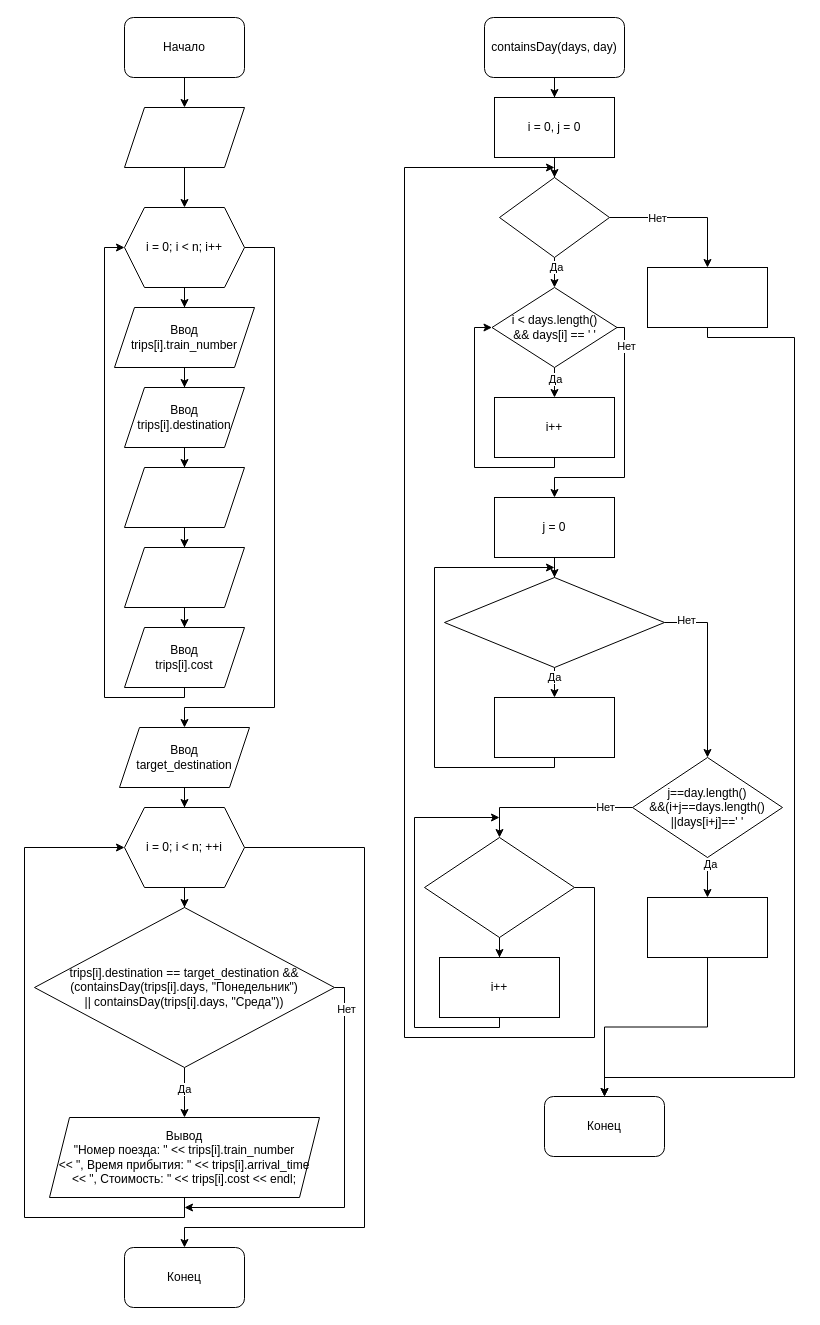
Some shapes in this 820 by 1325 pixel diagram are drawn without their labels. The shapes that lost their labels are listed below. From the top down, each one's centre as x and y in pixels, then its label:
[184,137]: Ввод n
[554,217]: i < days.length()
[707,297]: return false;
[184,497]: Ввод trips[i].days
[184,577]: Ввод trips[i].arrival_time
[554,622]: i + j < days.length() && j < day.length() && days[i + j] == day[j]
[554,727]: j++
[499,887]: i<days.length() &&days[i]!=' '
[707,927]: return true;
